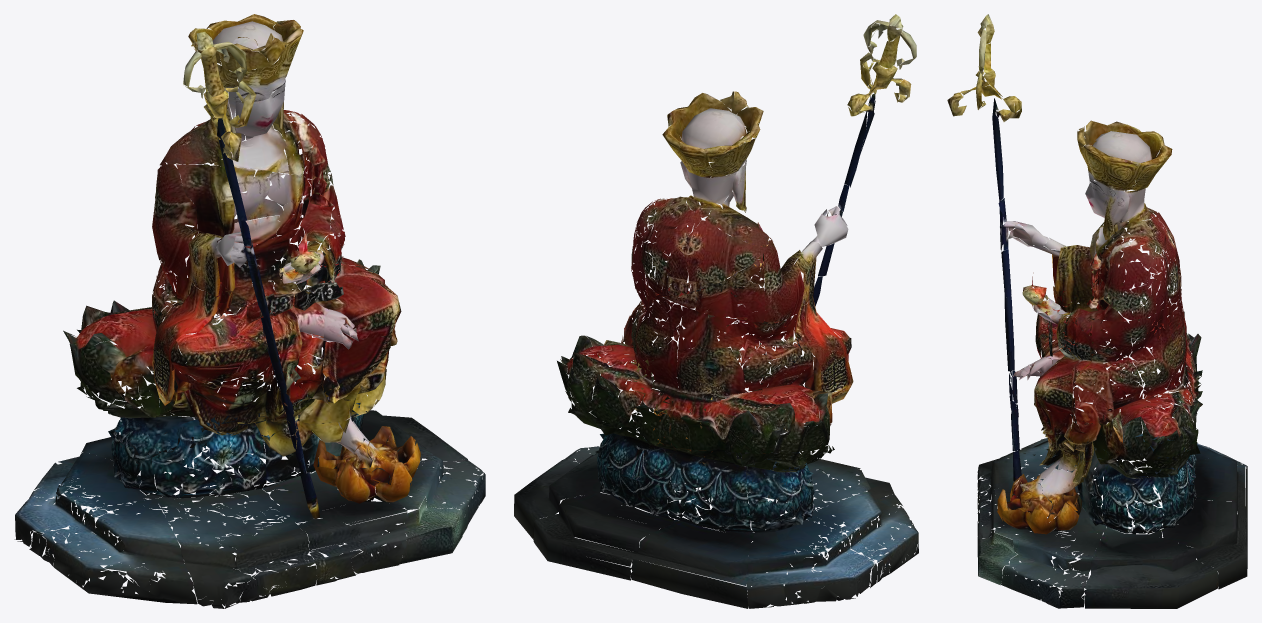
The picture shows the model from 3 angles, left to right: view 1: azimuth 30°, elevation 25°; view 2: azimuth 150°, elevation 25°; view 3: azimuth 270°, elevation 25°; orthographic projection. The views are drawn at different scales.
Parts seen in each view (by area): view 1: statue-020; view 2: statue-020; view 3: statue-020.
Part boxes in pixels (bbox=[...]): statue-020: bbox=[14, 14, 485, 608]; statue-020: bbox=[514, 14, 918, 608]; statue-020: bbox=[947, 14, 1247, 608].
Size of the model in its own units: 0.7249 by 1 by 0.5856.
Materials: 1 (1 with a texture image).
